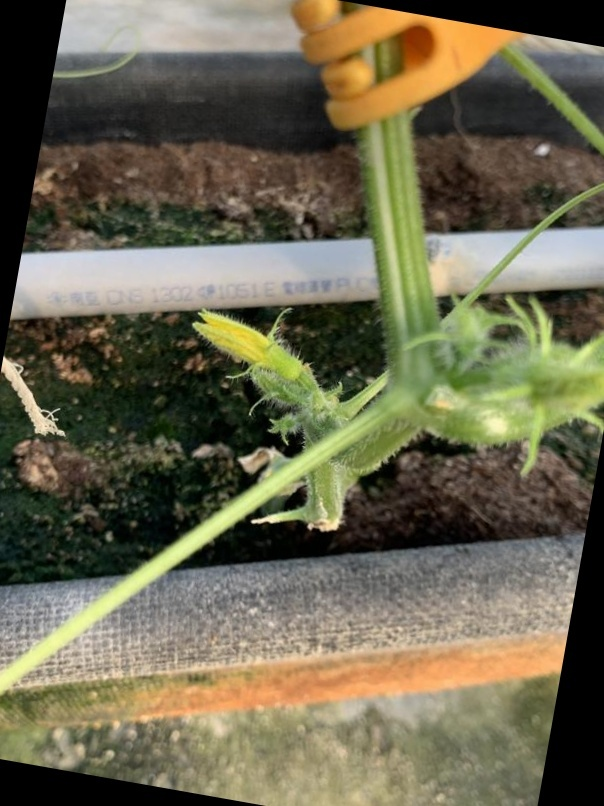bud: (191, 307, 300, 380)
